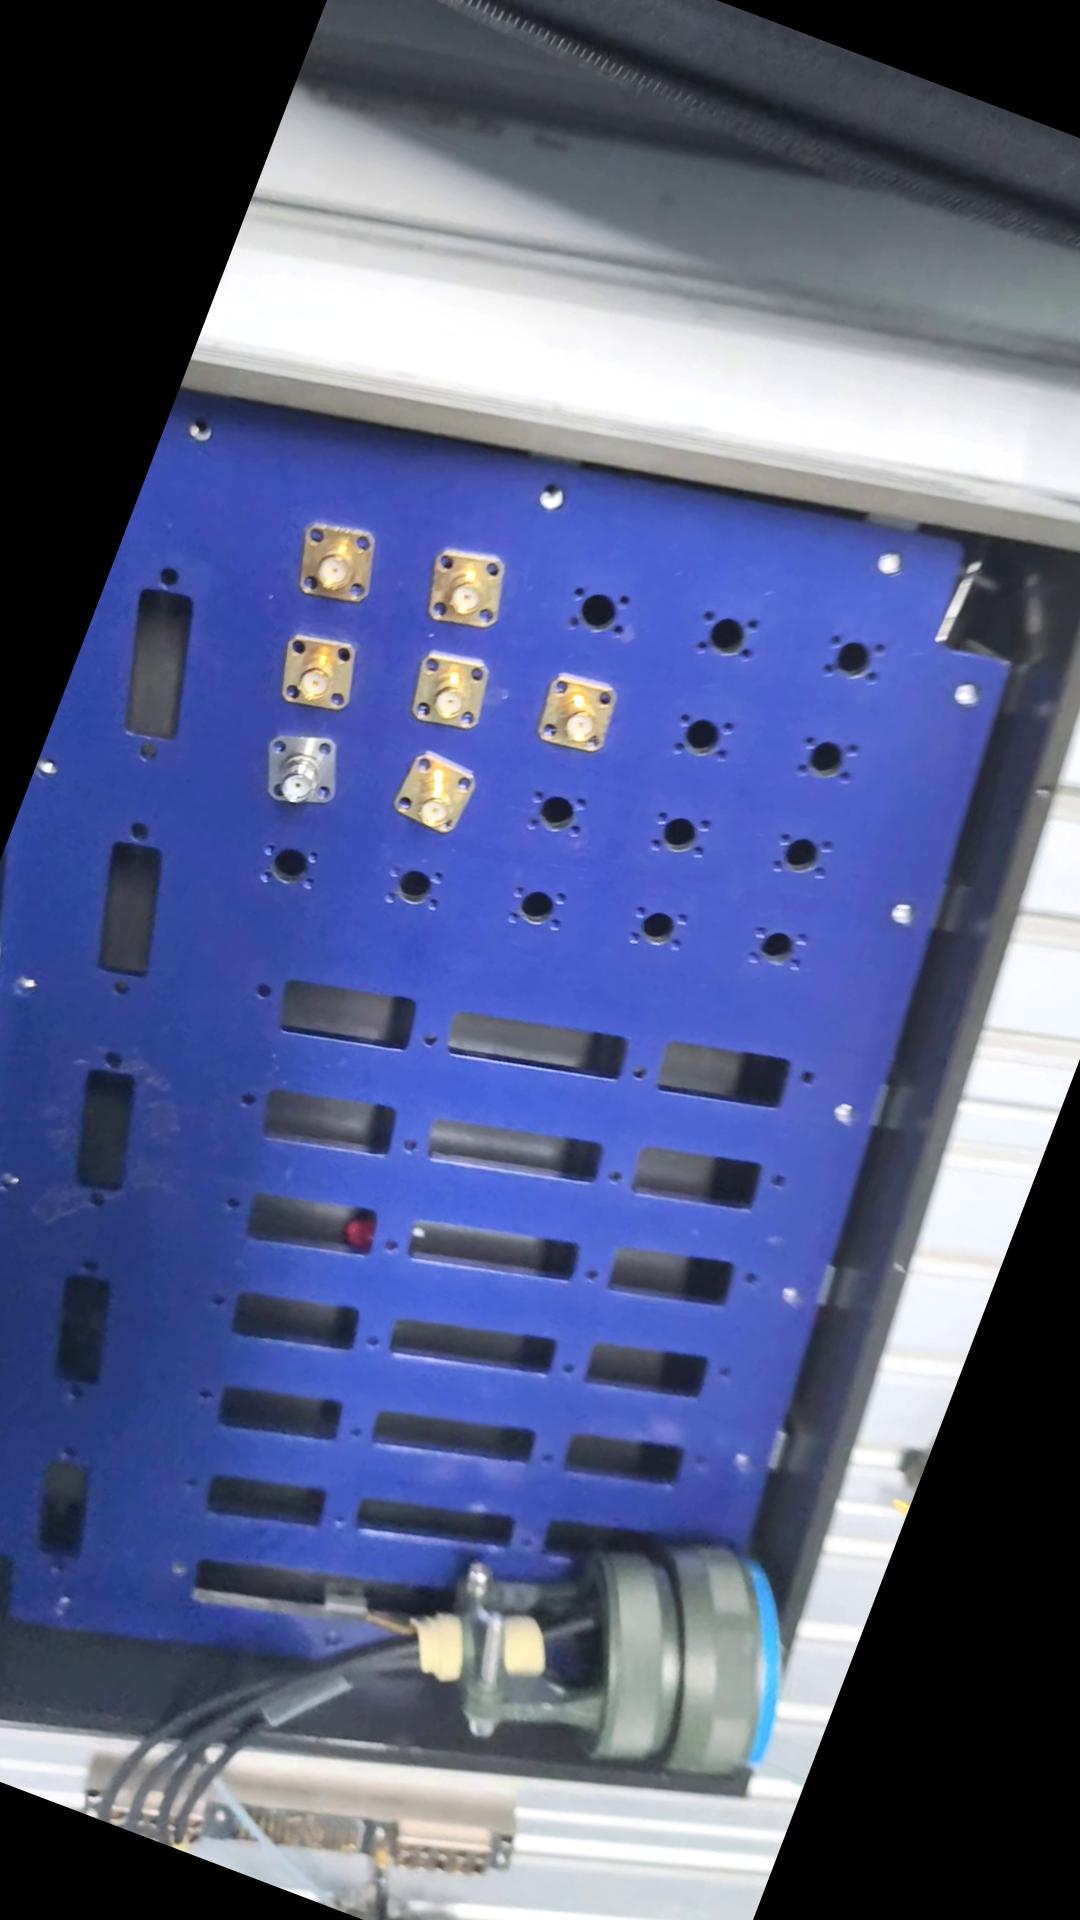SMA: (280, 506, 396, 615), (411, 537, 526, 642), (531, 665, 632, 769), (386, 745, 487, 844), (269, 626, 371, 723), (251, 719, 352, 814), (401, 644, 500, 736)
